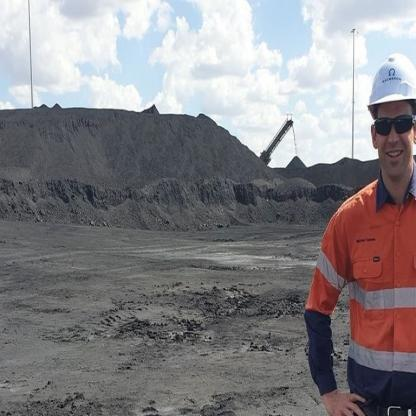person: (298, 34, 415, 415)
